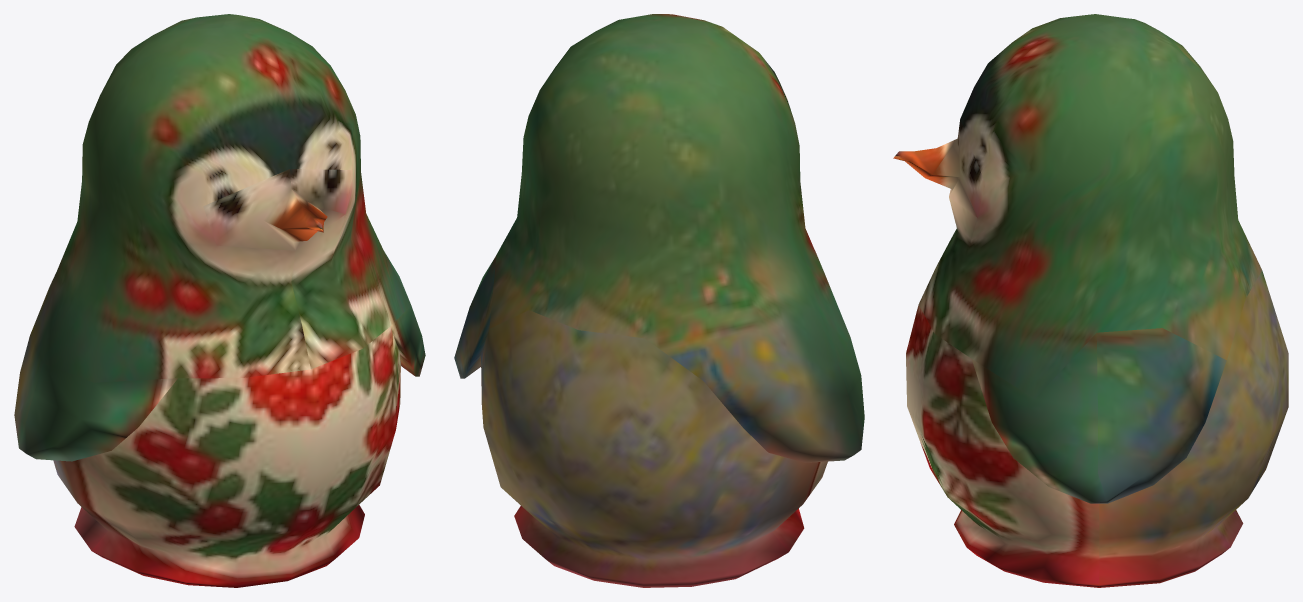
Rendered from penguin-06-24-berry-wreath-penguin-doll.gltf.
The picture shows the model from 3 angles, left to right: view 1: azimuth 30°, elevation 25°; view 2: azimuth 150°, elevation 25°; view 3: azimuth 270°, elevation 25°; orthographic projection.
Visible parts, largest first — view 1: penguin-06-24-berry-wreath-penguin-doll; view 2: penguin-06-24-berry-wreath-penguin-doll; view 3: penguin-06-24-berry-wreath-penguin-doll.
Boxes of the visible parts, x1=… form: penguin-06-24-berry-wreath-penguin-doll: x1=14, y1=14, x2=425, y2=587; penguin-06-24-berry-wreath-penguin-doll: x1=454, y1=14, x2=864, y2=587; penguin-06-24-berry-wreath-penguin-doll: x1=893, y1=14, x2=1288, y2=587.
Bounding box in the file's own units: 0.2 × 0.2514 × 0.173.
Materials: 1 (1 with a texture image).
